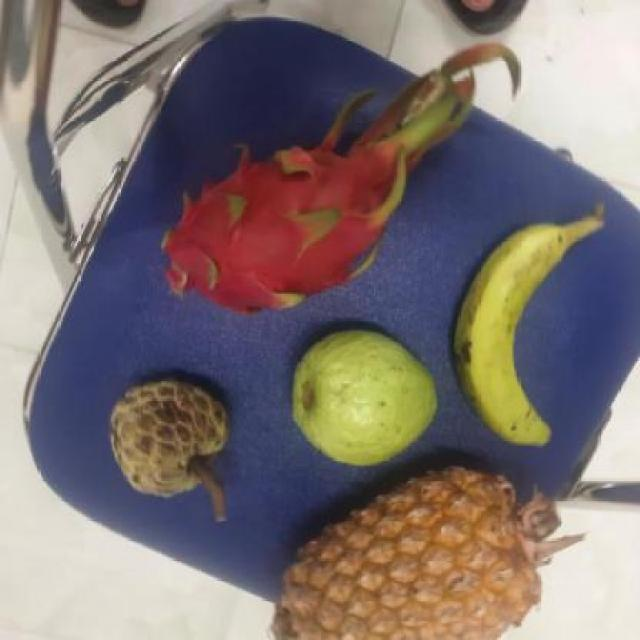banana: (451, 218, 578, 450)
dragon fruit: (150, 133, 404, 318)
guava: (288, 327, 440, 475)
pineapple: (268, 459, 540, 639)
sugar apple: (104, 378, 228, 498)
